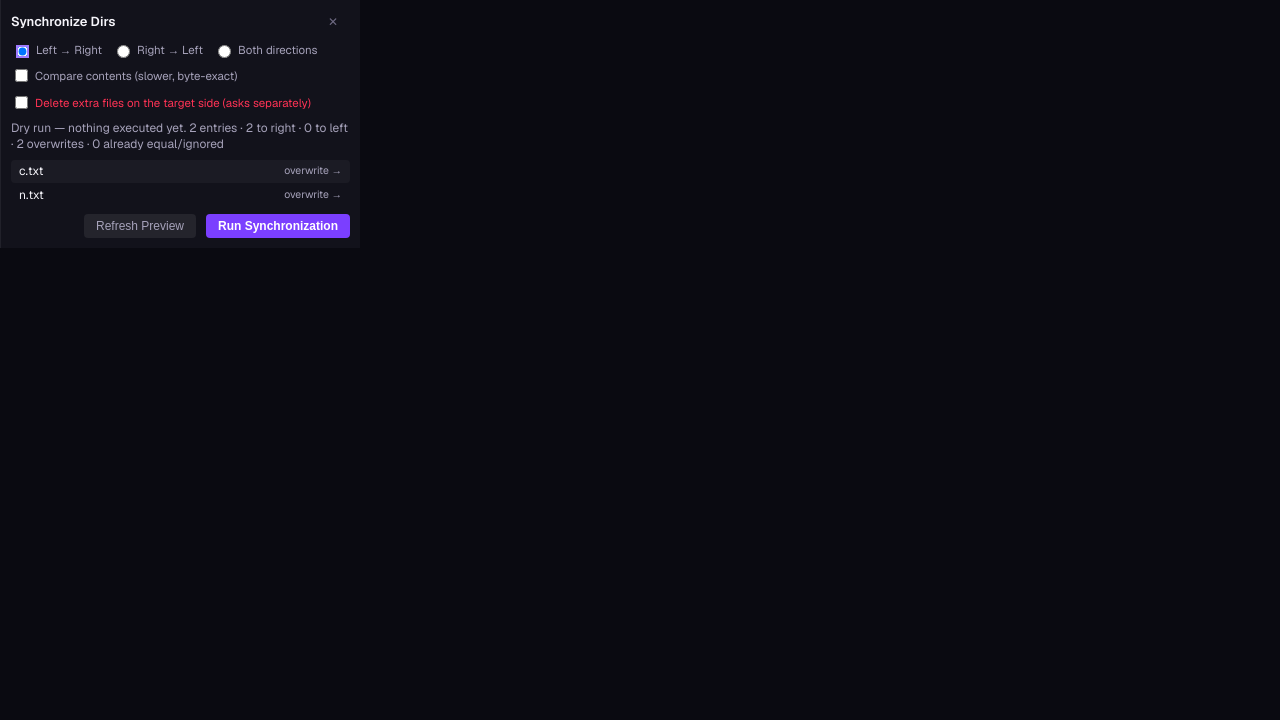
Test: SyncPanel FER-111/112 controls › asks for overwrite confirmation and per-item conflict decisions
Click the button "Run Synchronization" at (278, 226), box [206, 214, 350, 238]
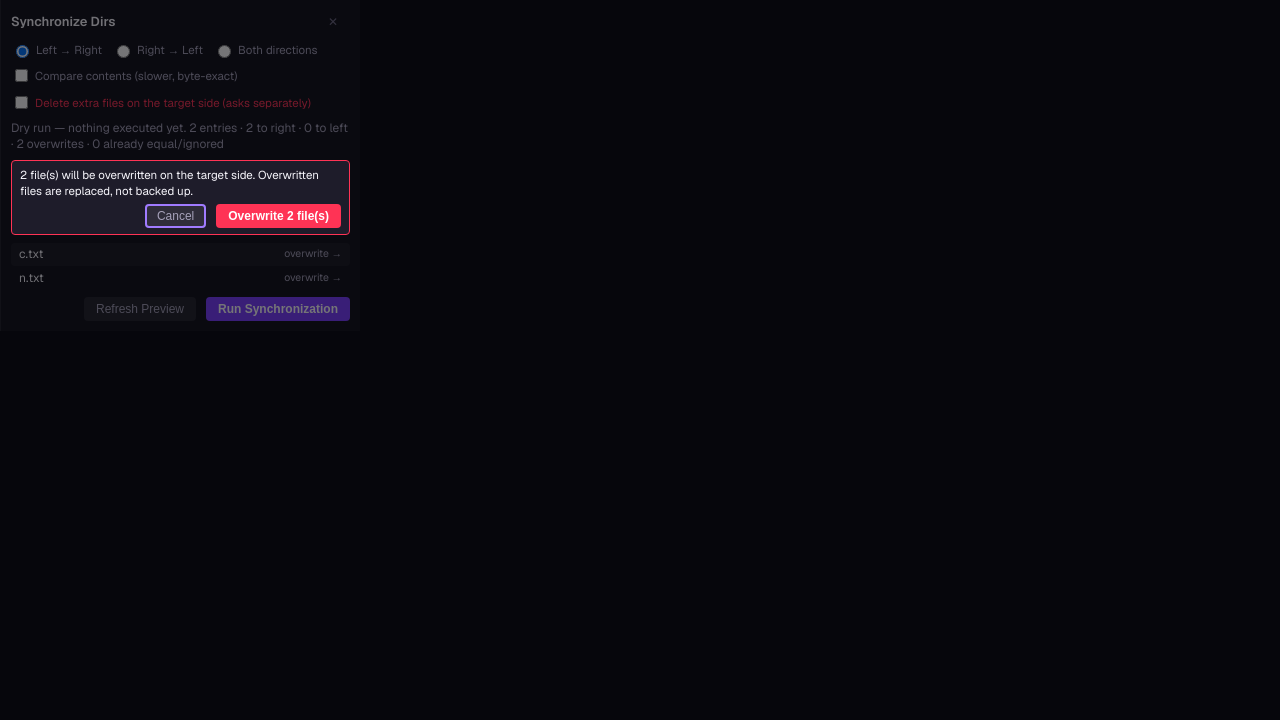
Now the text "2 file(s) will be overwritten" is shown, box [20, 167, 319, 198]
